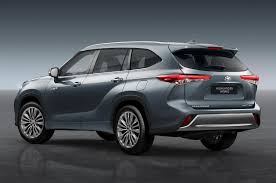Toyota: (14, 40, 251, 140)
